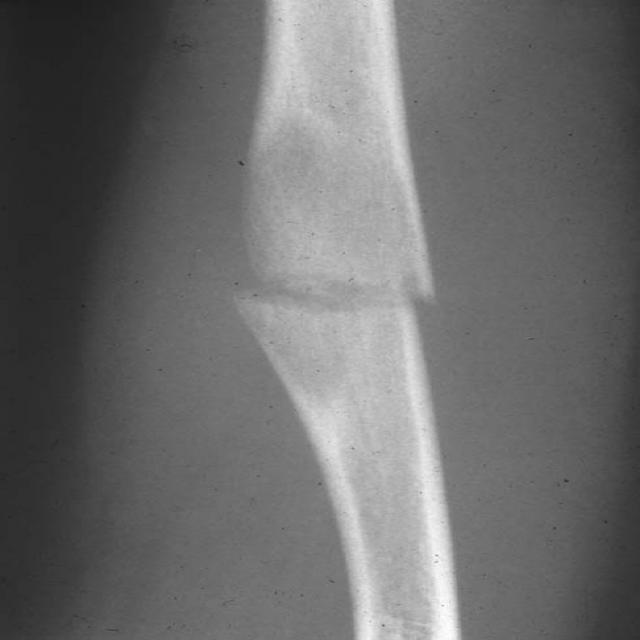Broken: (242, 3, 439, 302), (232, 301, 445, 545)
